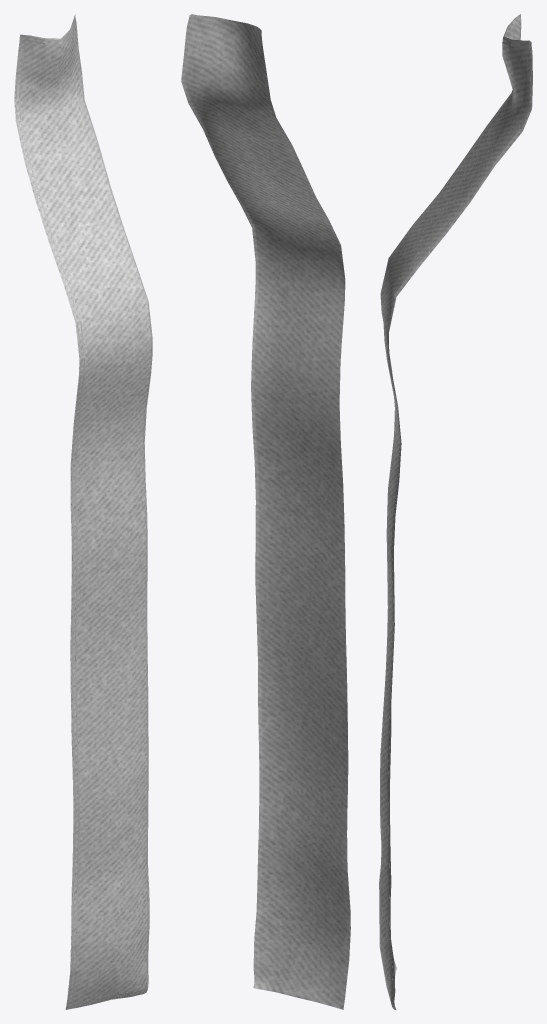
File: Planka.glb
The picture shows the model from 3 angles, left to right: view 1: azimuth 30°, elevation 25°; view 2: azimuth 150°, elevation 25°; view 3: azimuth 270°, elevation 25°; orthographic projection. The views are drawn at different scales.
Visible parts, largest first — view 1: Planka1, Rope1; view 2: Planka1; view 3: Planka1, Rope1.
Part boxes in pixels (x1,y1,x2,y2): Planka1: (14, 14, 152, 1009); Rope1: (15, 15, 151, 1008); Planka1: (181, 14, 350, 1009); Planka1: (379, 14, 532, 1009); Rope1: (380, 37, 530, 1008).
Bounding box in the file's own units: 0.119 × 1.26 × 0.1822.
2 materials, 2 textured.
